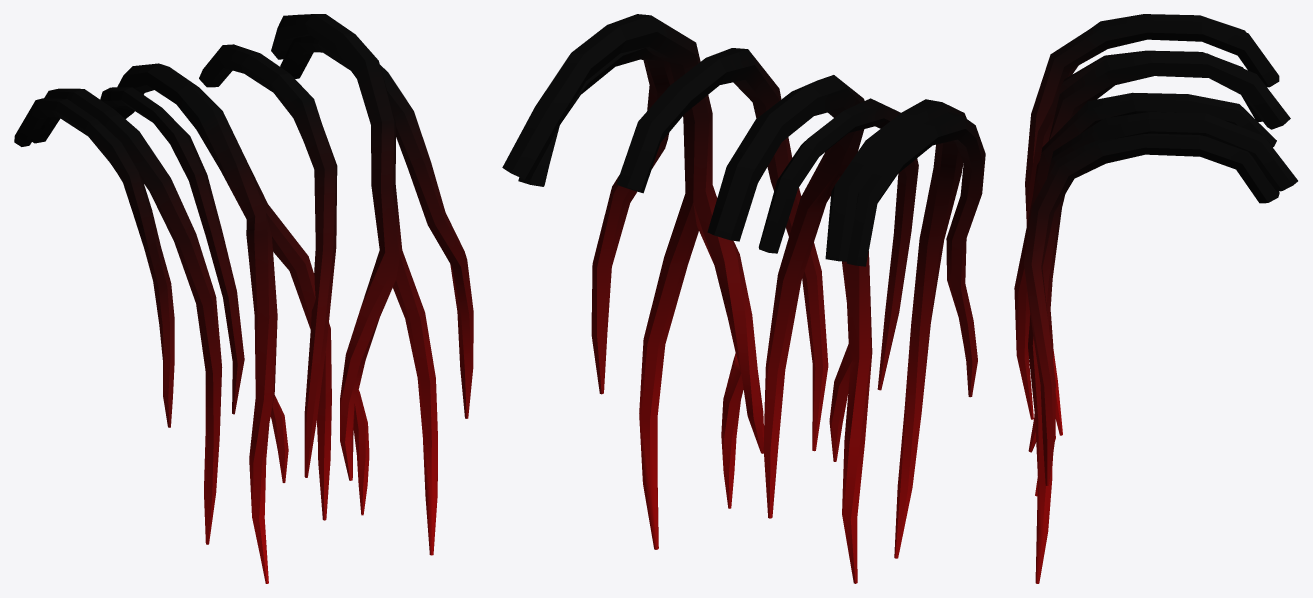
Rendered from SM_Env_Vines_04.fbx.
3 renders of one model, left to right at view 1: azimuth 30°, elevation 25°; view 2: azimuth 150°, elevation 25°; view 3: azimuth 270°, elevation 25°, orthographic. The views are drawn at different scales.
Parts seen in each view (by area): view 1: SM_Env_Vines_04_LOD0; view 2: SM_Env_Vines_04_LOD0; view 3: SM_Env_Vines_04_LOD0.
Boxes of the visible parts, left/top/right/bottom form: SM_Env_Vines_04_LOD0: left=14, top=14, right=473, bottom=583; SM_Env_Vines_04_LOD0: left=502, top=14, right=985, bottom=583; SM_Env_Vines_04_LOD0: left=1014, top=14, right=1297, bottom=583.
Size of what is drawn, in the model's own units: 230 by 311 by 175.
